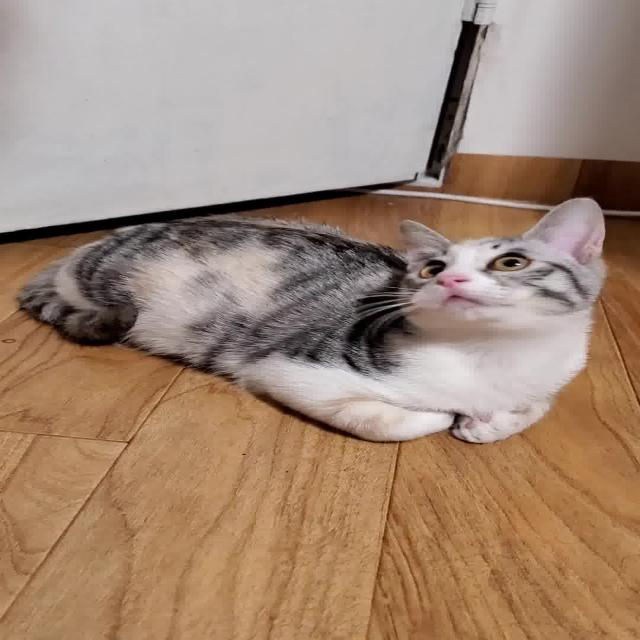cat: (16, 184, 637, 456)
